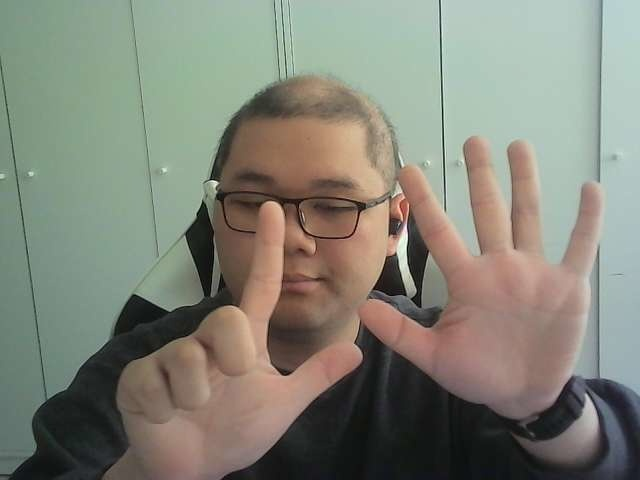Seven: (116, 135, 606, 473)
